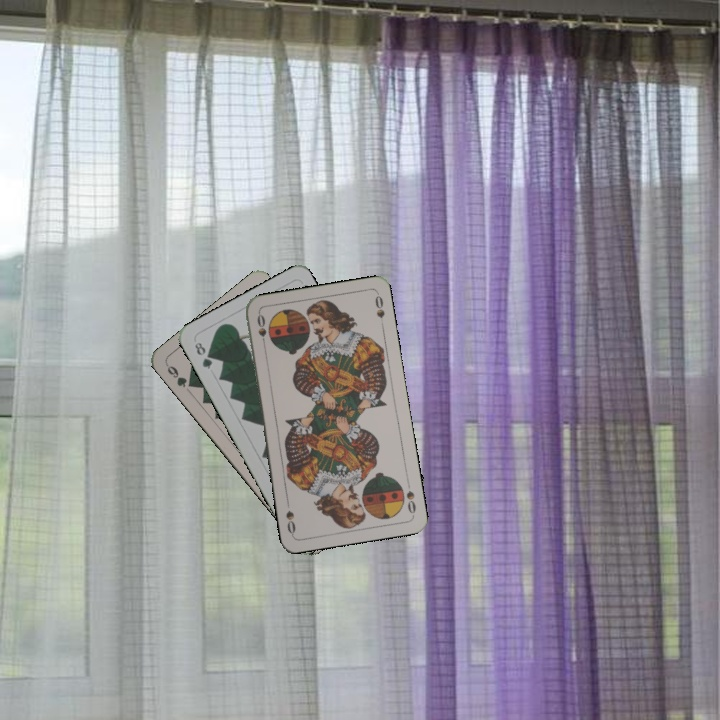G8: (190, 338, 215, 372)
G9: (162, 360, 197, 390)
SO: (253, 310, 269, 350), (402, 487, 418, 516)
